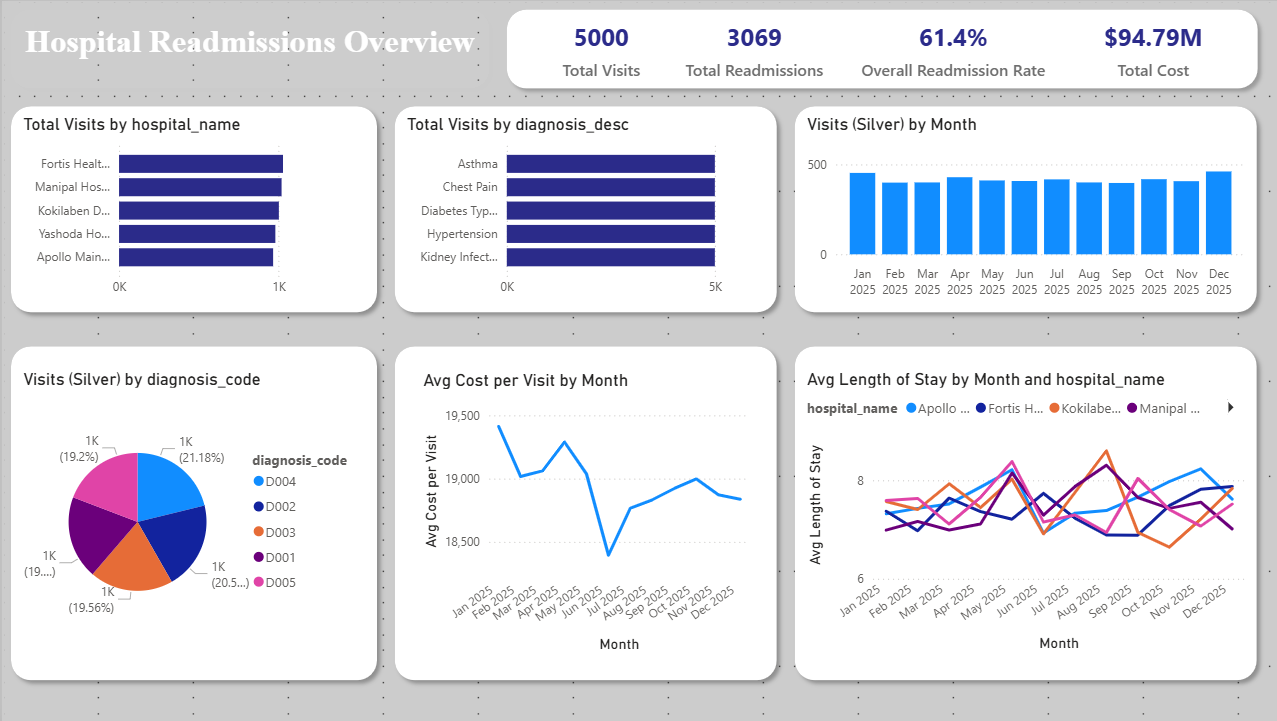

The dashboard page shown, as its layout file describes it:
{"tool":"powerbi","page":{"name":"Overview","canvas":[1280,720],"ordinal":0},"visuals":[{"type":"shape","box":[496,0,768,96],"z":0},{"type":"shape","box":[384,336,400,352],"z":1000},{"type":"shape","box":[784,336,480,352],"z":2000},{"type":"shape","box":[16,336,368,352],"z":3000},{"type":"card","fields":{"Values":["MyMeasures.Total Visits"]},"box":[528,16,144,64],"z":4000},{"type":"shape","box":[784,96,480,224],"z":5000},{"type":"textbox","box":[16,16,464,48],"z":6000},{"type":"shape","box":[384,96,400,224],"z":7000},{"type":"card","fields":{"Values":["MyMeasures.Total Readmissions"]},"box":[688,16,160,64],"z":8000},{"type":"card","fields":{"Values":["MyMeasures.Overall Readmission Rate"]},"box":[864,16,224,64],"z":9000},{"type":"shape","box":[16,96,368,224],"z":10000},{"type":"card","fields":{"Values":["MyMeasures.Total Cost"]},"box":[1104,16,128,64],"z":11000},{"type":"pieChart","title":"Visits  by diagnosis code","fields":{"Category":["fact_visit.diagnosis_code"],"Y":["MyMeasures.Visits (Silver)"]},"box":[32,368,336,288],"z":12000},{"type":"clusteredBarChart","title":"Total Visits by diagnosis description","fields":{"Category":["fact_visit.diagnosis_desc"],"Y":["MyMeasures.Total Visits"]},"box":[400,112,368,192],"z":13000},{"type":"lineChart","title":"Avg Length of Stay by Month and hospital name","fields":{"Category":["DateTable.Month"],"Y":["MyMeasures.Avg Length of Stay"],"Series":["dim_hospital.hospital_name"]},"box":[800,368,448,288],"z":14000},{"type":"clusteredBarChart","title":"Total Visits by hospital name","fields":{"Category":["hospital_disease_kpi.hospital_name"],"Y":["MyMeasures.Total Visits"]},"box":[32,112,336,192],"z":15000},{"type":"clusteredColumnChart","title":"Visits  by Month","fields":{"Category":["DateTable.Month"],"Y":["MyMeasures.Visits (Silver)"]},"box":[800,112,448,192],"z":16000},{"type":"lineChart","fields":{"Category":["DateTable.Month"],"Y":["MyMeasures.Avg Cost per Visit"]},"box":[416,368,336,288],"z":17000}]}

Visuals, with their boxes in screenshot pixels (x1, y1, x2, y2), scaled from the page's 1280x720 canvas onto the 1277x721 screenshot:
shape: 495, 0, 1261, 96
shape: 383, 336, 782, 689
shape: 782, 336, 1261, 689
shape: 16, 336, 383, 689
card - MyMeasures.Total Visits: 527, 16, 670, 80
shape: 782, 96, 1261, 320
textbox: 16, 16, 479, 64
shape: 383, 96, 782, 320
card - MyMeasures.Total Readmissions: 686, 16, 846, 80
card - MyMeasures.Overall Readmission Rate: 862, 16, 1085, 80
shape: 16, 96, 383, 320
card - MyMeasures.Total Cost: 1101, 16, 1229, 80
"Visits  by diagnosis code" pieChart: 32, 369, 367, 657
"Total Visits by diagnosis description" clusteredBarChart: 399, 112, 766, 304
"Avg Length of Stay by Month and hospital name" lineChart: 798, 369, 1245, 657
"Total Visits by hospital name" clusteredBarChart: 32, 112, 367, 304
"Visits  by Month" clusteredColumnChart: 798, 112, 1245, 304
lineChart - DateTable.Month x MyMeasures.Avg Cost per Visit: 415, 369, 750, 657
